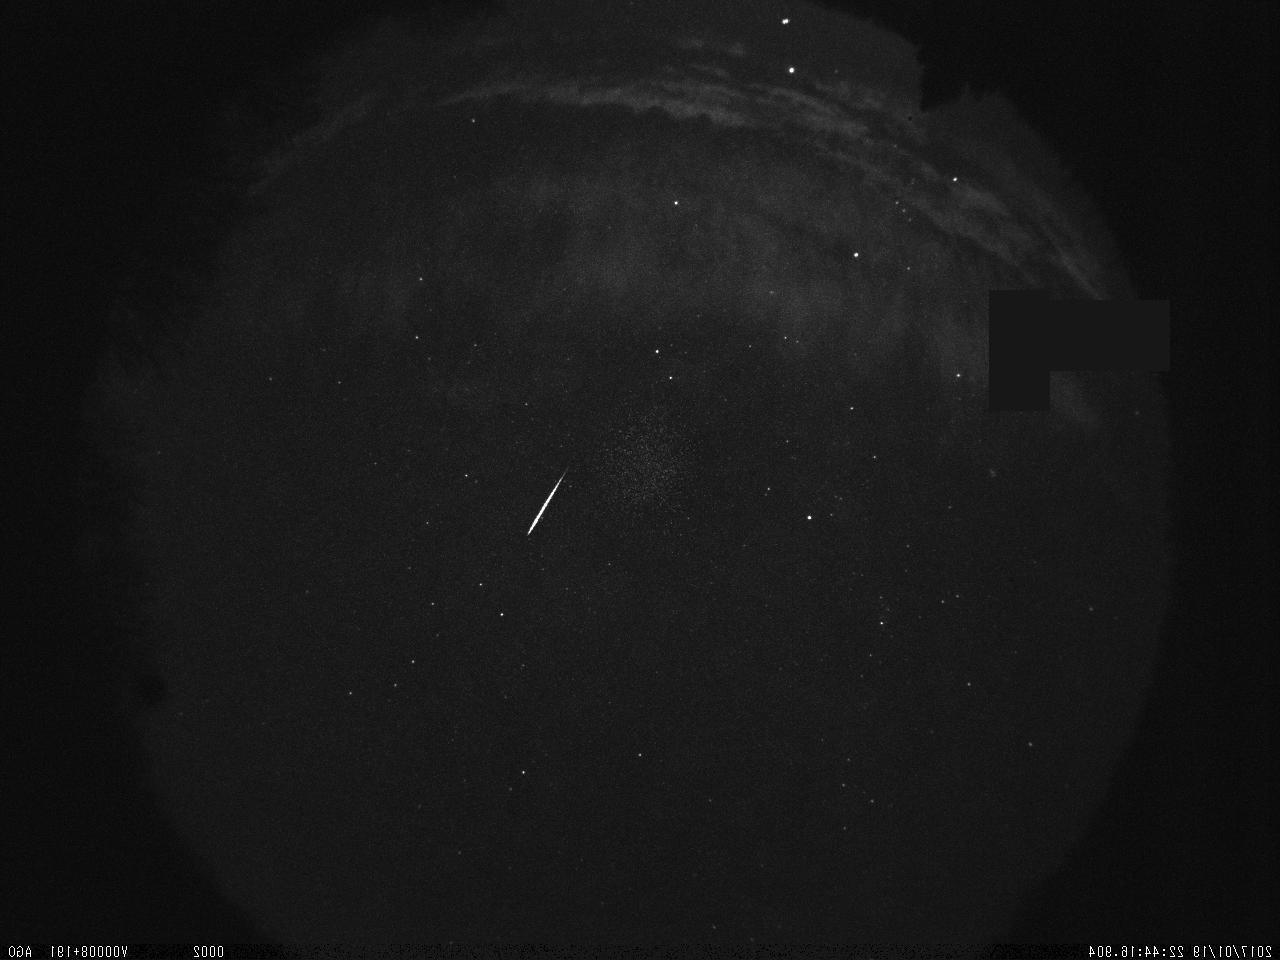meteor: (515, 454, 586, 544)
